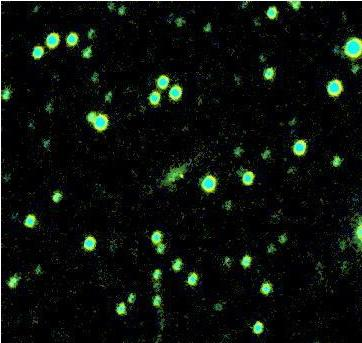star: (165, 164, 195, 194)
